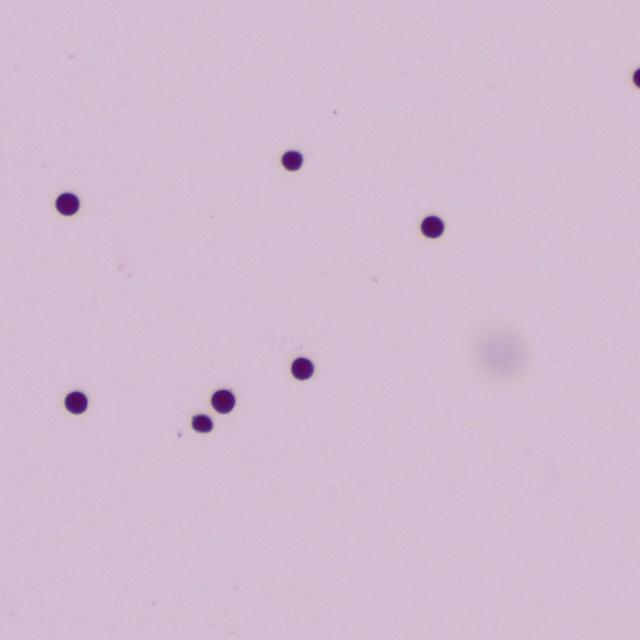viable: (211, 389, 235, 413), (56, 192, 79, 215), (65, 391, 87, 413), (421, 215, 443, 237), (291, 357, 313, 378), (282, 150, 302, 170), (193, 416, 212, 432), (633, 68, 639, 87)
